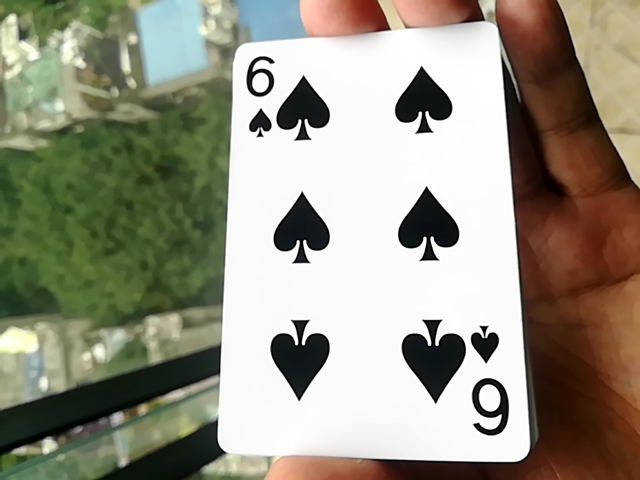ht 6: (202, 14, 535, 464)
